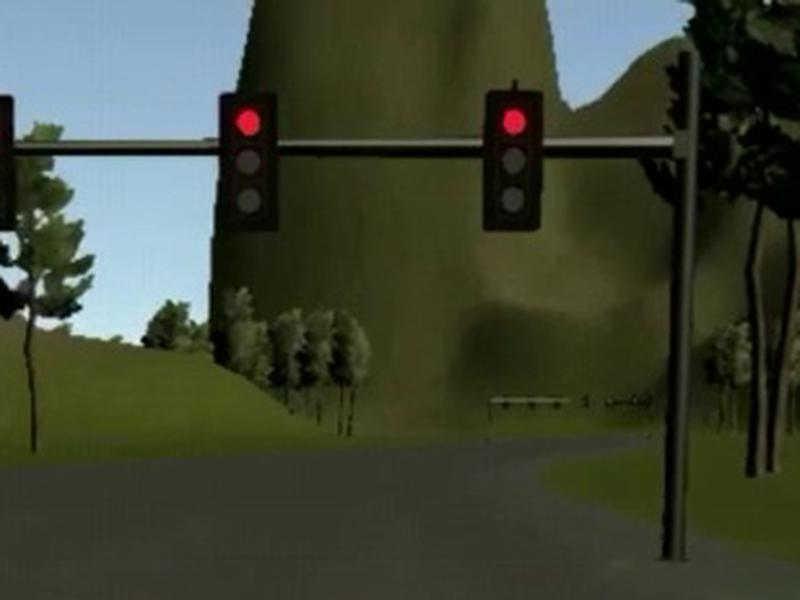Red: (481, 91, 543, 231), (219, 92, 280, 233)
